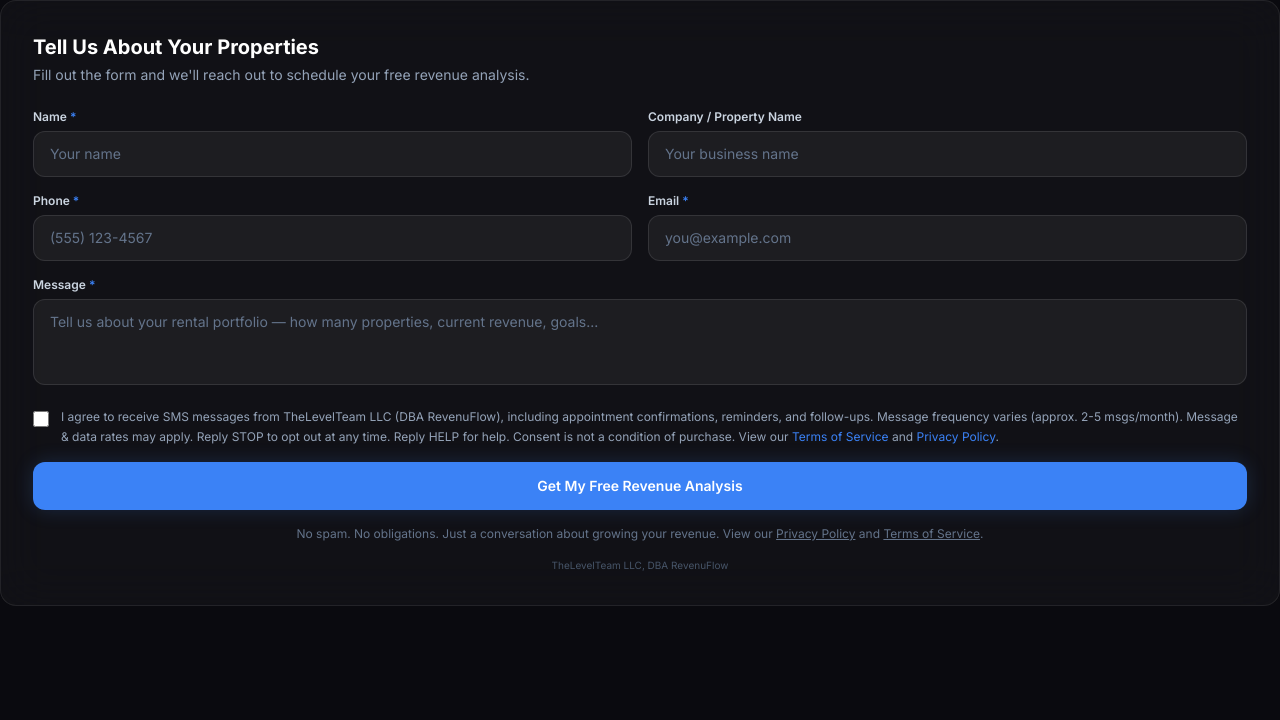
Test case: ContactForm › submission › shows success banner on successful submission
This screenshot has width=1280, height=720.
Type "Test User" into the field labelled "Name *". click: (332, 154)
box: [33,131,632,177]
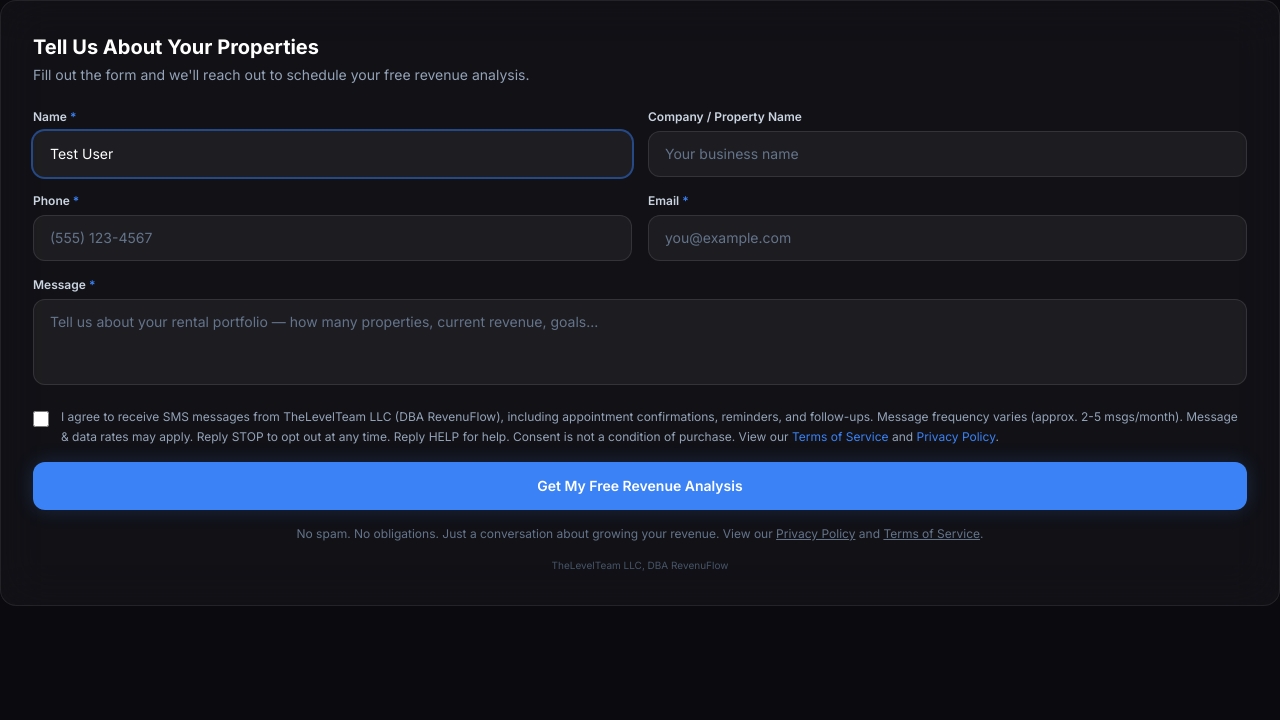
Type "555-1234" into the field labelled "Phone *". click: (332, 238)
box: [33,215,632,261]
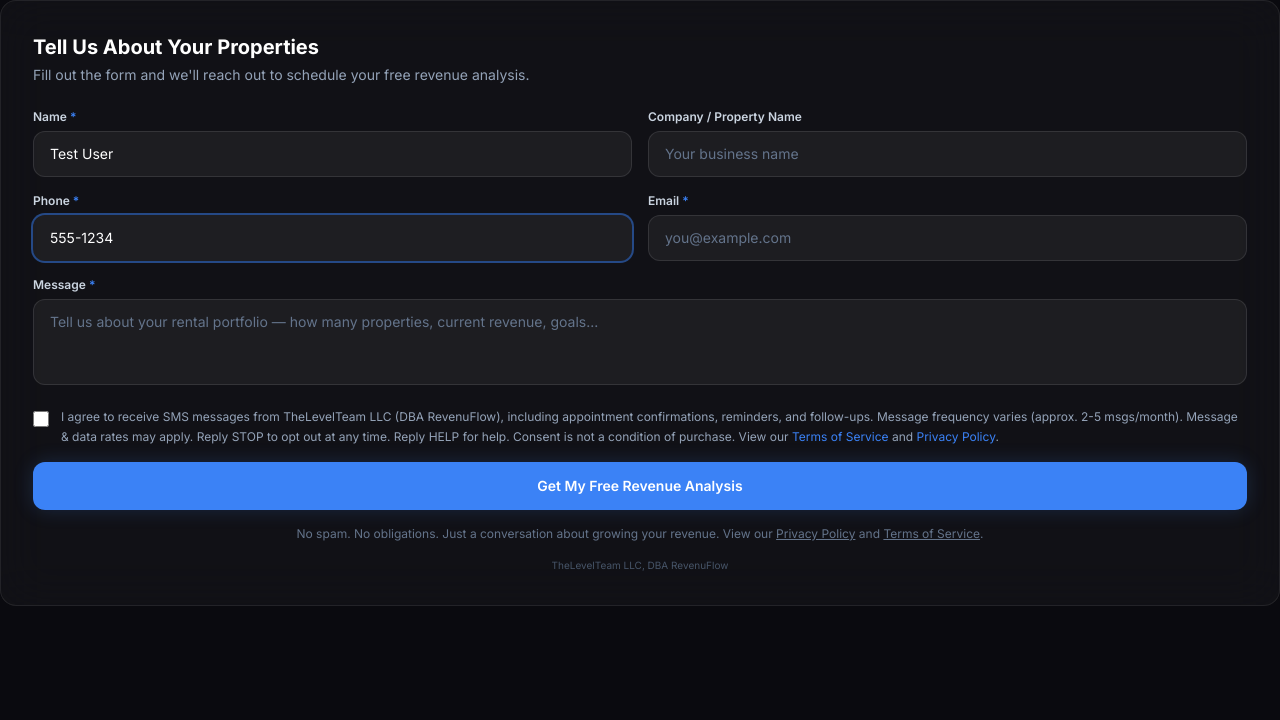
Type "test@test.com" into the field labelled "Email *". click: (948, 238)
box: [648,215,1247,261]
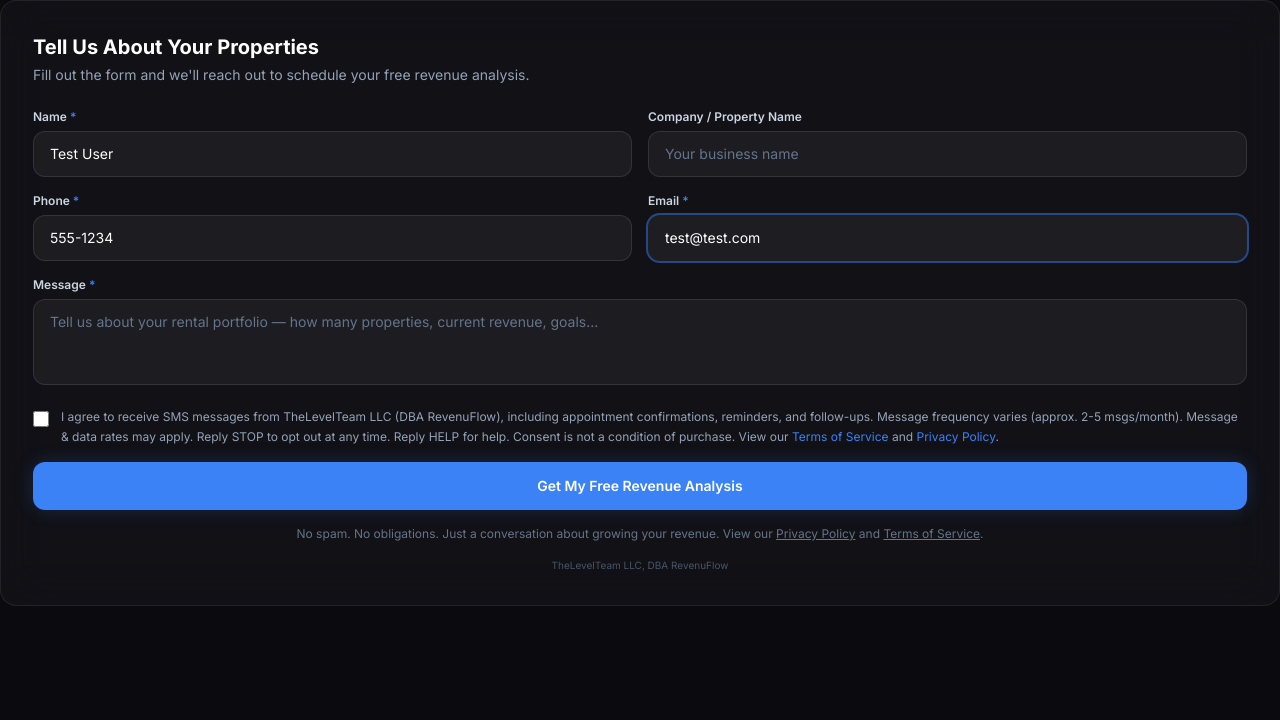
Type "Test message" into the text box labelled "Message *". click: (640, 342)
box: [33,299,1247,385]
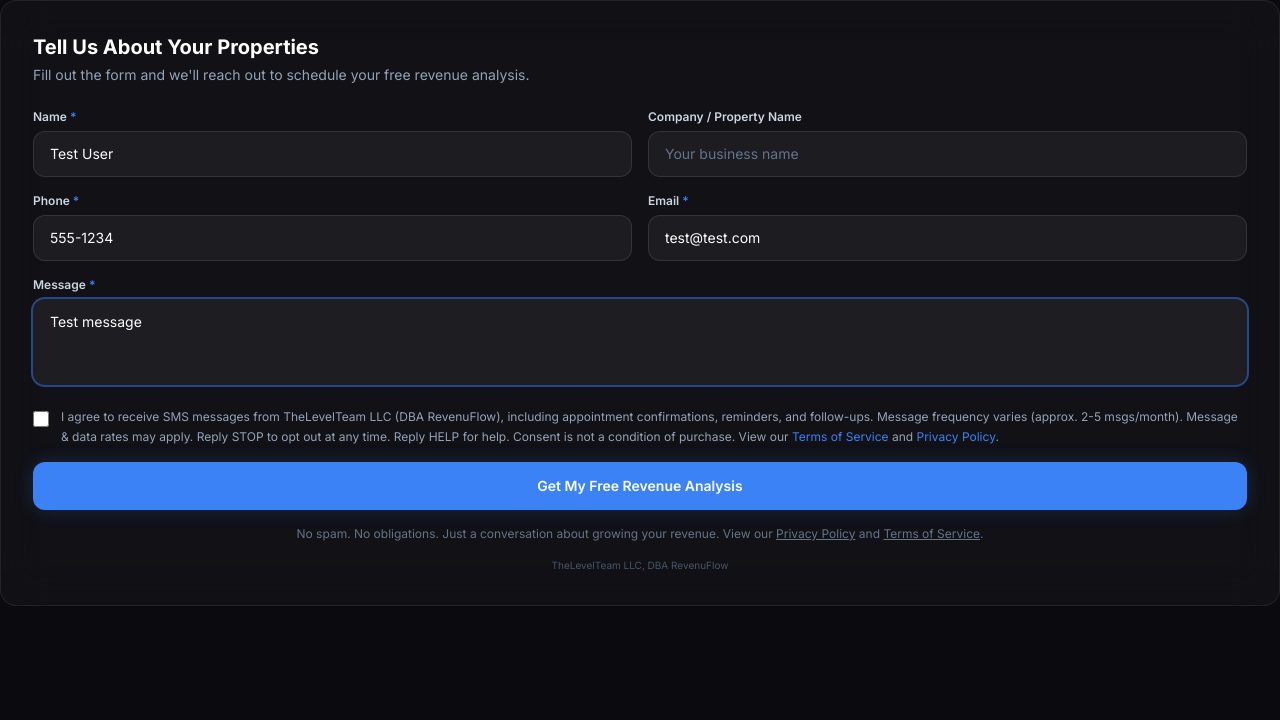
Click the button "Get My Free Revenue Analysis". click: click(640, 486)
box: [33,462,1247,510]
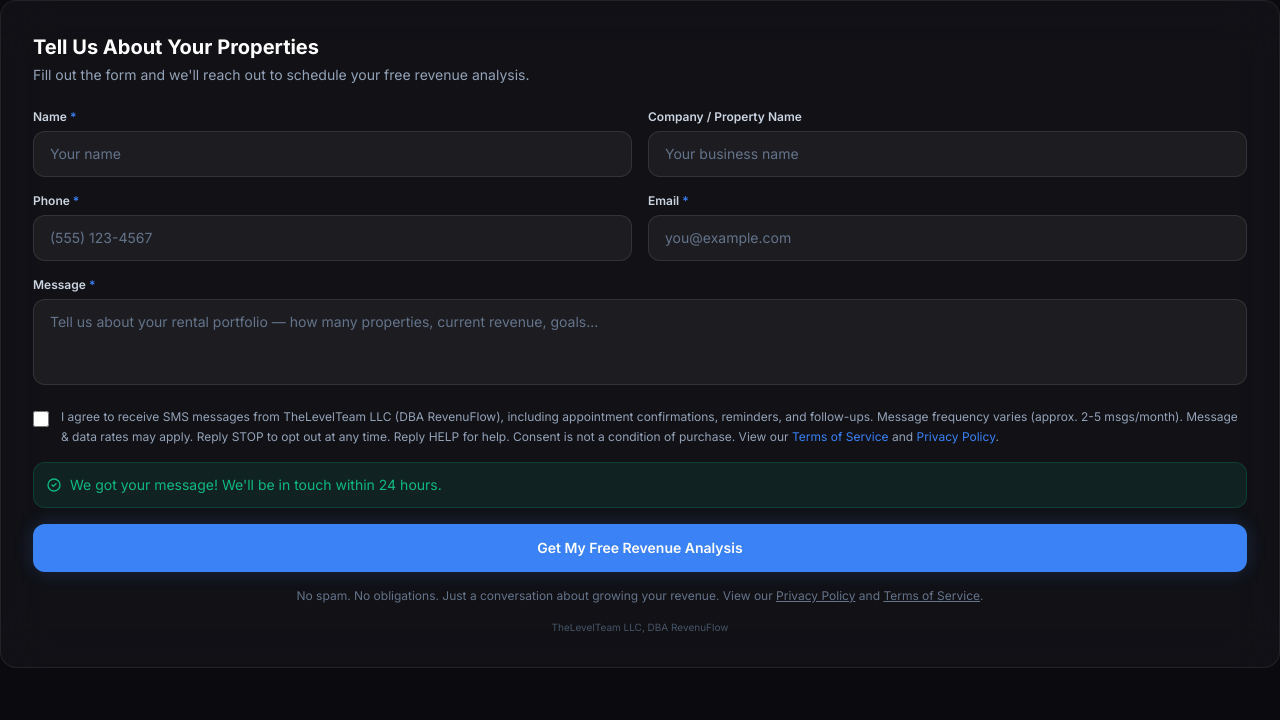
Expected: the text "We got your message! We'll be in touch within 24 hours." is shown, [33,462,1247,508]
